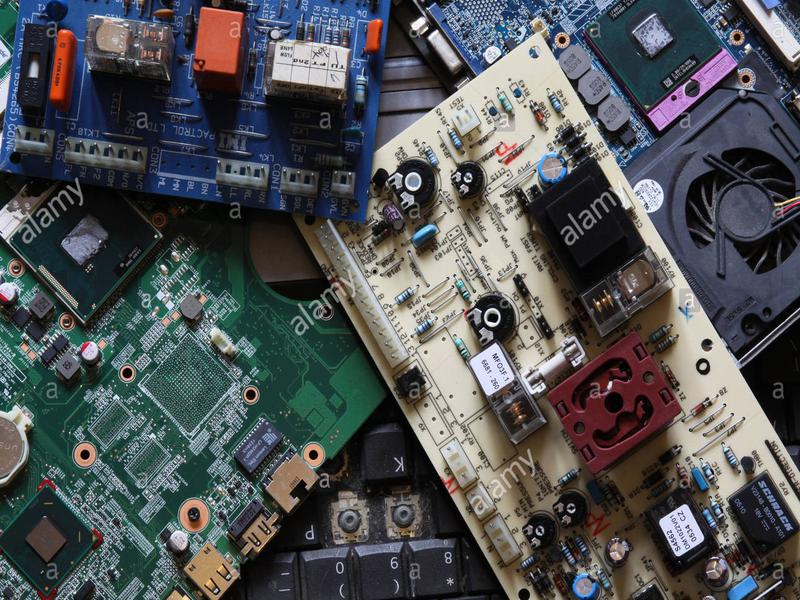circuit_board: (271, 30, 800, 600), (2, 195, 388, 600), (1, 1, 401, 229)
